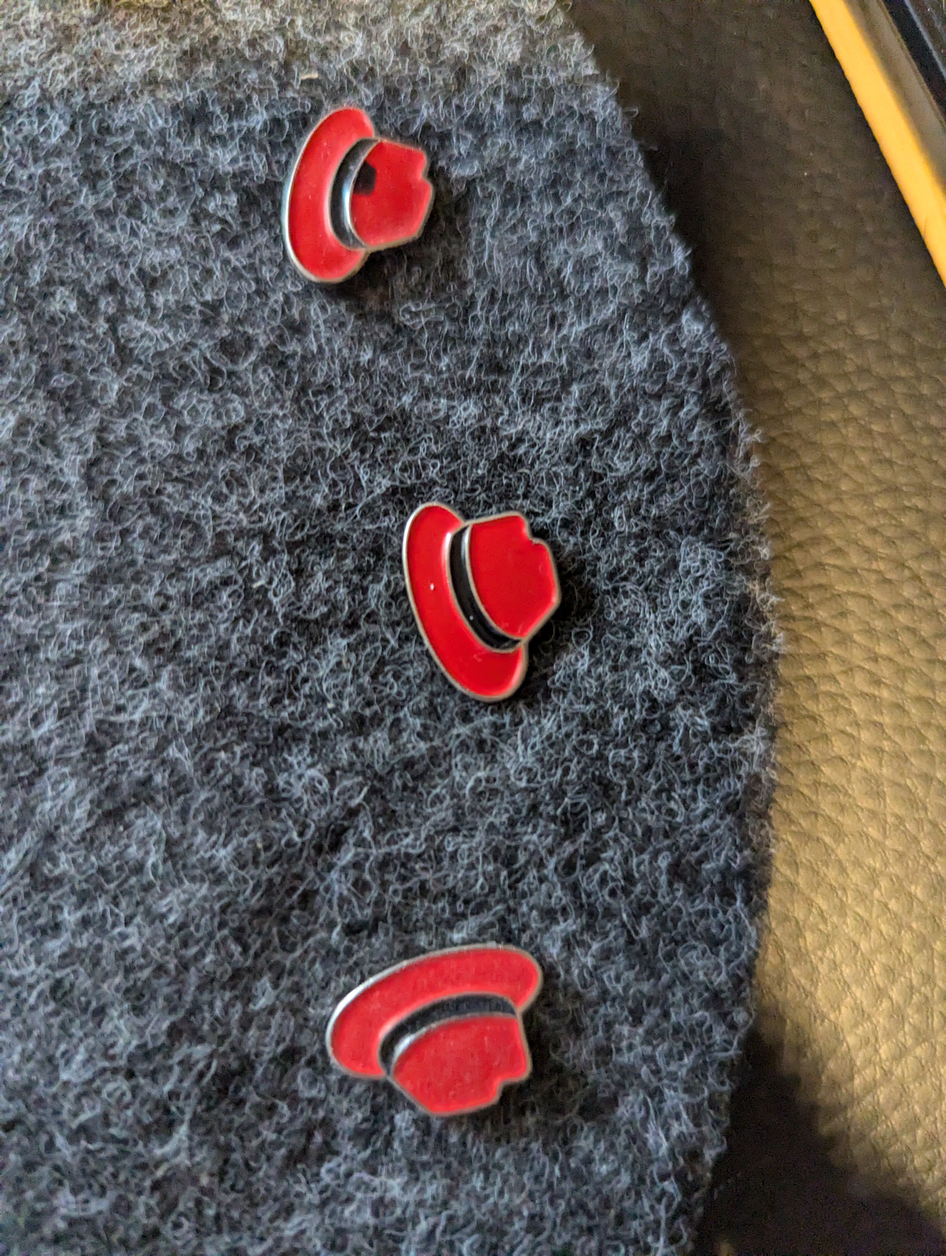Red-Hat: (299, 917, 563, 1132), (379, 478, 585, 719), (266, 85, 449, 297)
Scratch: (345, 147, 380, 202)
